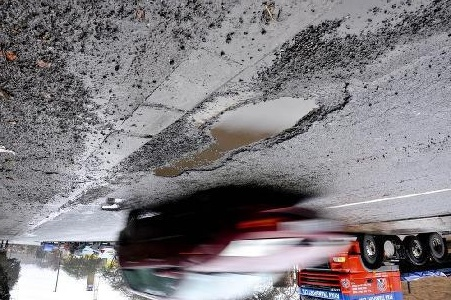pothole: (148, 94, 328, 181), (97, 198, 126, 214)
